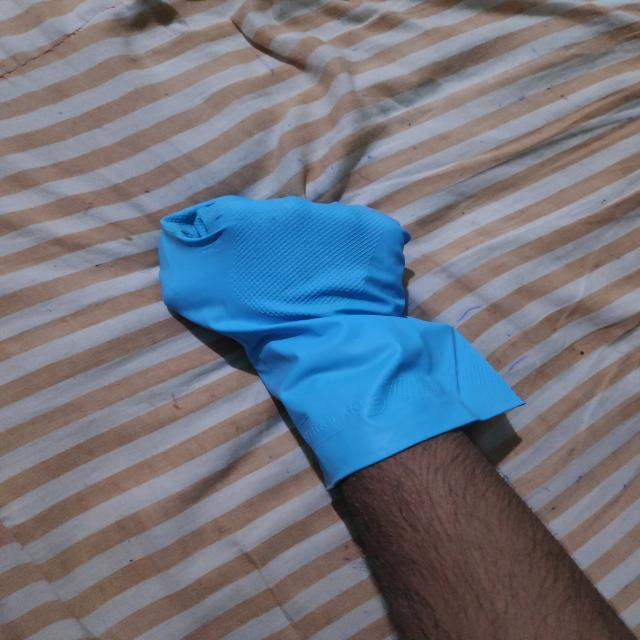glove_hand: (151, 192, 534, 483)
